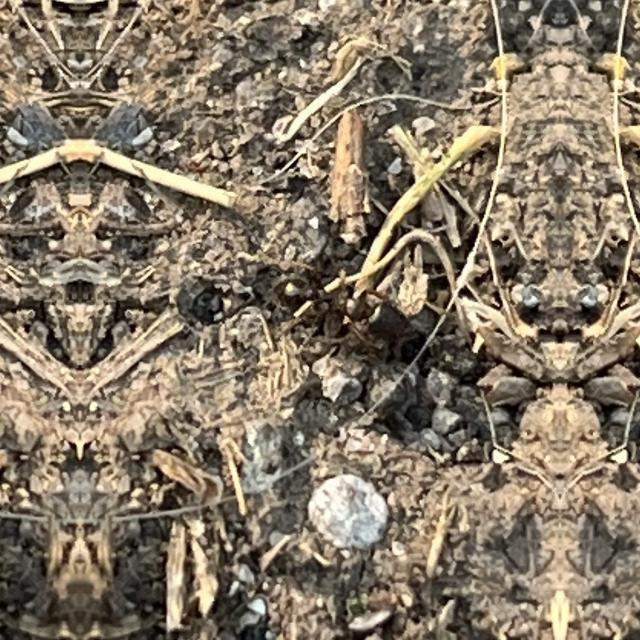Tetramorium: (265, 247, 443, 366)
